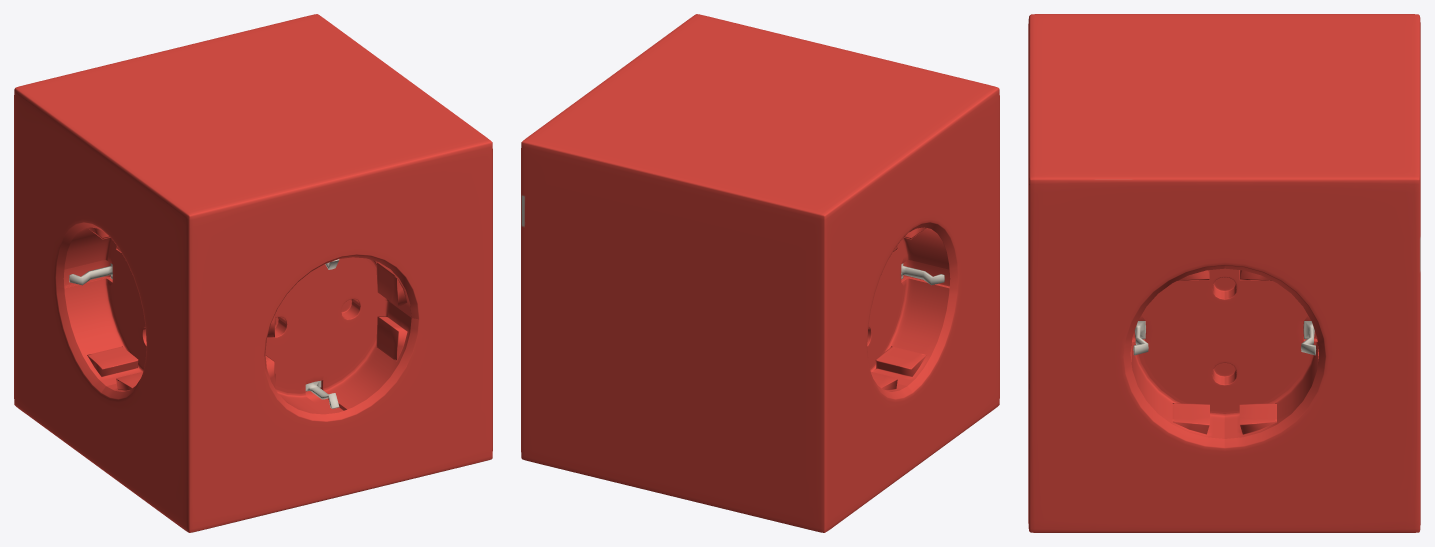
File: Blend-sim003-box01.glb
The picture shows the model from 3 angles, left to right: view 1: azimuth 30°, elevation 25°; view 2: azimuth 150°, elevation 25°; view 3: azimuth 270°, elevation 25°; orthographic projection. The views are drawn at different scales.
Parts seen in each view (by area): view 1: box02; view 2: box02; view 3: box02.
Part boxes in pixels (box(x1,y1,x2,y2)): box02: box(14, 14, 492, 532); box02: box(521, 14, 999, 532); box02: box(1028, 14, 1420, 532).
Size of the model in its own units: 0.2286 by 0.2284 by 0.2284.
Materials: 1 (1 with a texture image).
